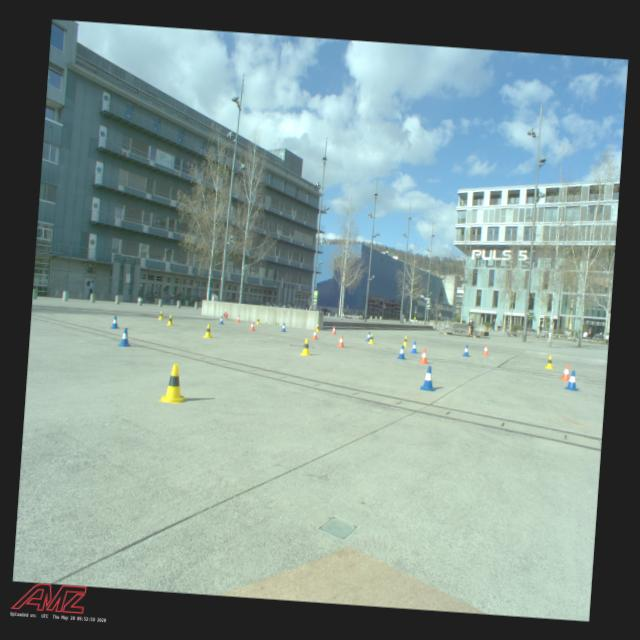blue_cone: (419, 364, 436, 392), (564, 369, 580, 390), (118, 327, 132, 347), (397, 344, 406, 360), (110, 314, 119, 328), (410, 341, 418, 353), (462, 344, 469, 356), (280, 322, 286, 332), (366, 332, 372, 342), (218, 316, 224, 324)
orange_cone: (560, 364, 572, 381), (418, 348, 429, 364), (336, 334, 344, 346), (248, 321, 256, 331), (311, 328, 318, 339), (482, 344, 489, 355), (331, 326, 336, 334), (236, 314, 240, 322)
yellow_cone: (158, 363, 188, 404), (300, 338, 311, 356), (544, 355, 554, 369), (203, 323, 212, 338), (166, 314, 173, 325), (368, 332, 374, 343), (402, 335, 408, 346), (158, 310, 164, 320), (315, 323, 320, 332), (256, 316, 260, 324)
